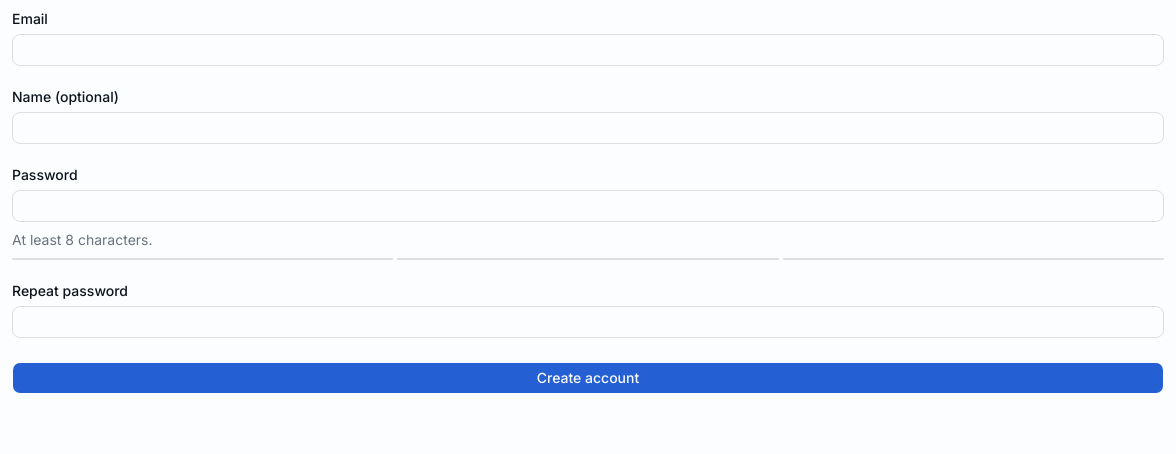
RegisterForm › announces a refused sign-up
Step 1. Click the button "Create account" → (588, 378), box 12,362 -> 1164,394
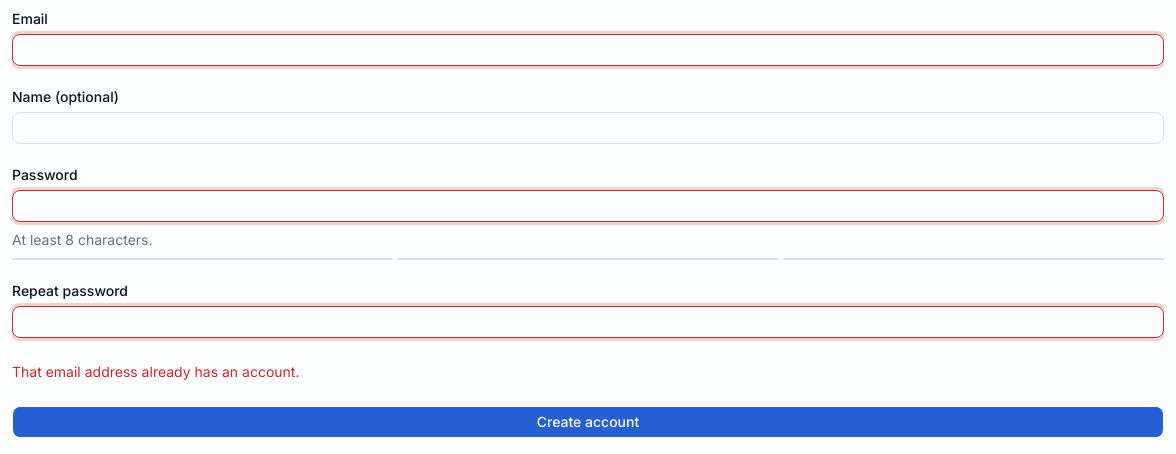
Now the message reads "That email address already has an account.", box 12,363 -> 300,380
